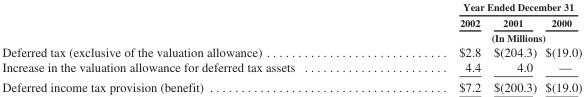table: (1, 0, 581, 93)
table column: (1, 0, 376, 93), (376, 0, 486, 93), (486, 0, 540, 93), (540, 0, 581, 93)
table column header: (1, 0, 581, 43)
table row: (1, 59, 581, 76), (1, 76, 581, 93), (1, 43, 581, 59), (1, 14, 581, 29), (1, 0, 581, 14), (1, 29, 581, 43)
table spanning cell: (376, 0, 581, 14), (376, 29, 581, 43)
